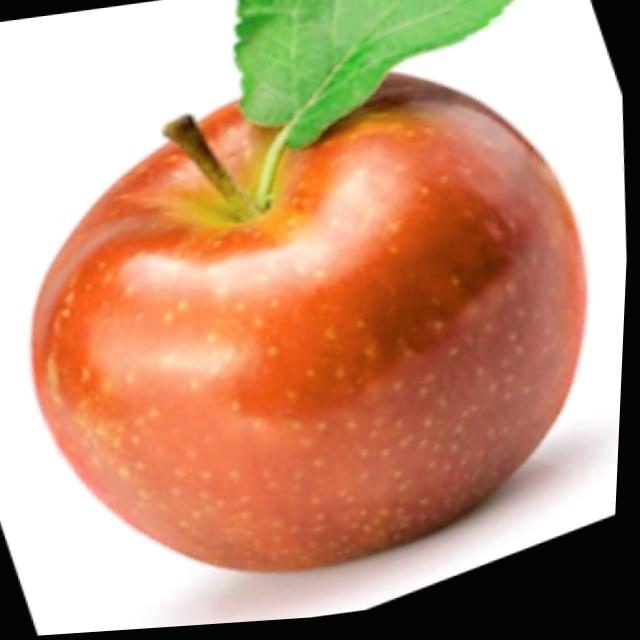organik: (23, 23, 638, 595)
